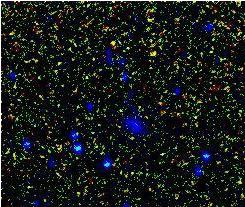star: (95, 25, 125, 55)
